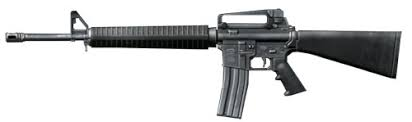gun: (5, 8, 403, 122)
